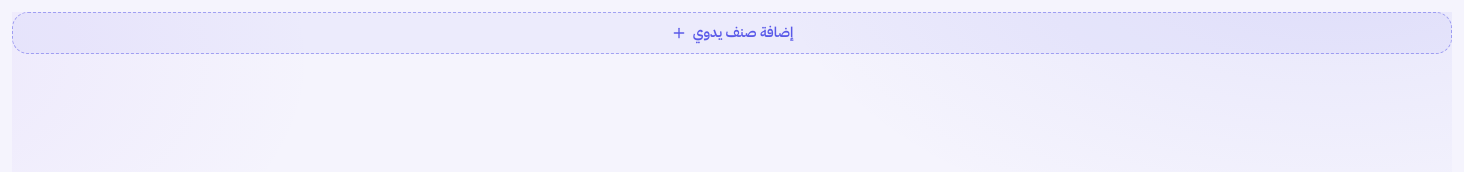
Test: the manual cart line › clears itself but stays open — these come in threes
Click the button "إضافة صنف يدوي".
click(732, 33)  # box [12, 12, 1452, 54]
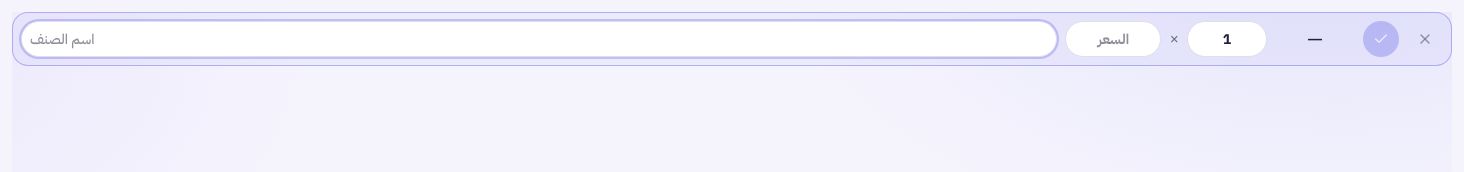
Type "أ" into the field labelled "اسم الصنف".
click(539, 39); type("أ")  # box [21, 21, 1057, 57]
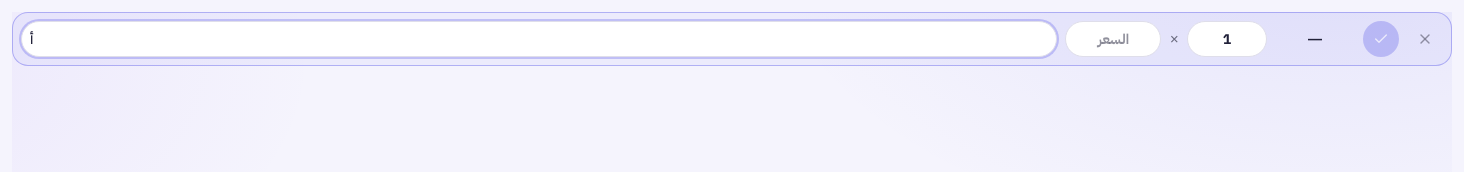
Type "3" into the field labelled "السعر".
click(1113, 39); type("3")  # box [1065, 21, 1161, 57]
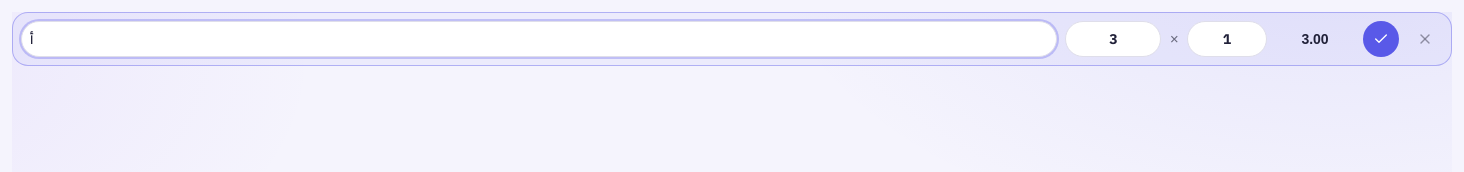
Click the button named "إضافة إلى السلة".
click(1381, 39)  # box [1363, 21, 1399, 57]
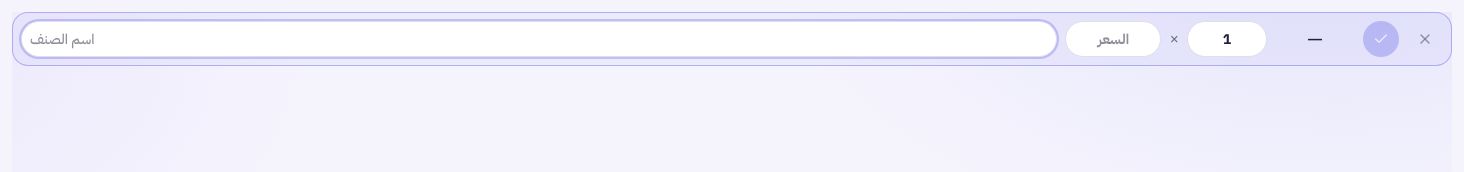
Now the field named "الكمية" holds "1", box [1187, 21, 1267, 57]
Now the field labelled "اسم الصنف" is empty, box [21, 21, 1057, 57]
